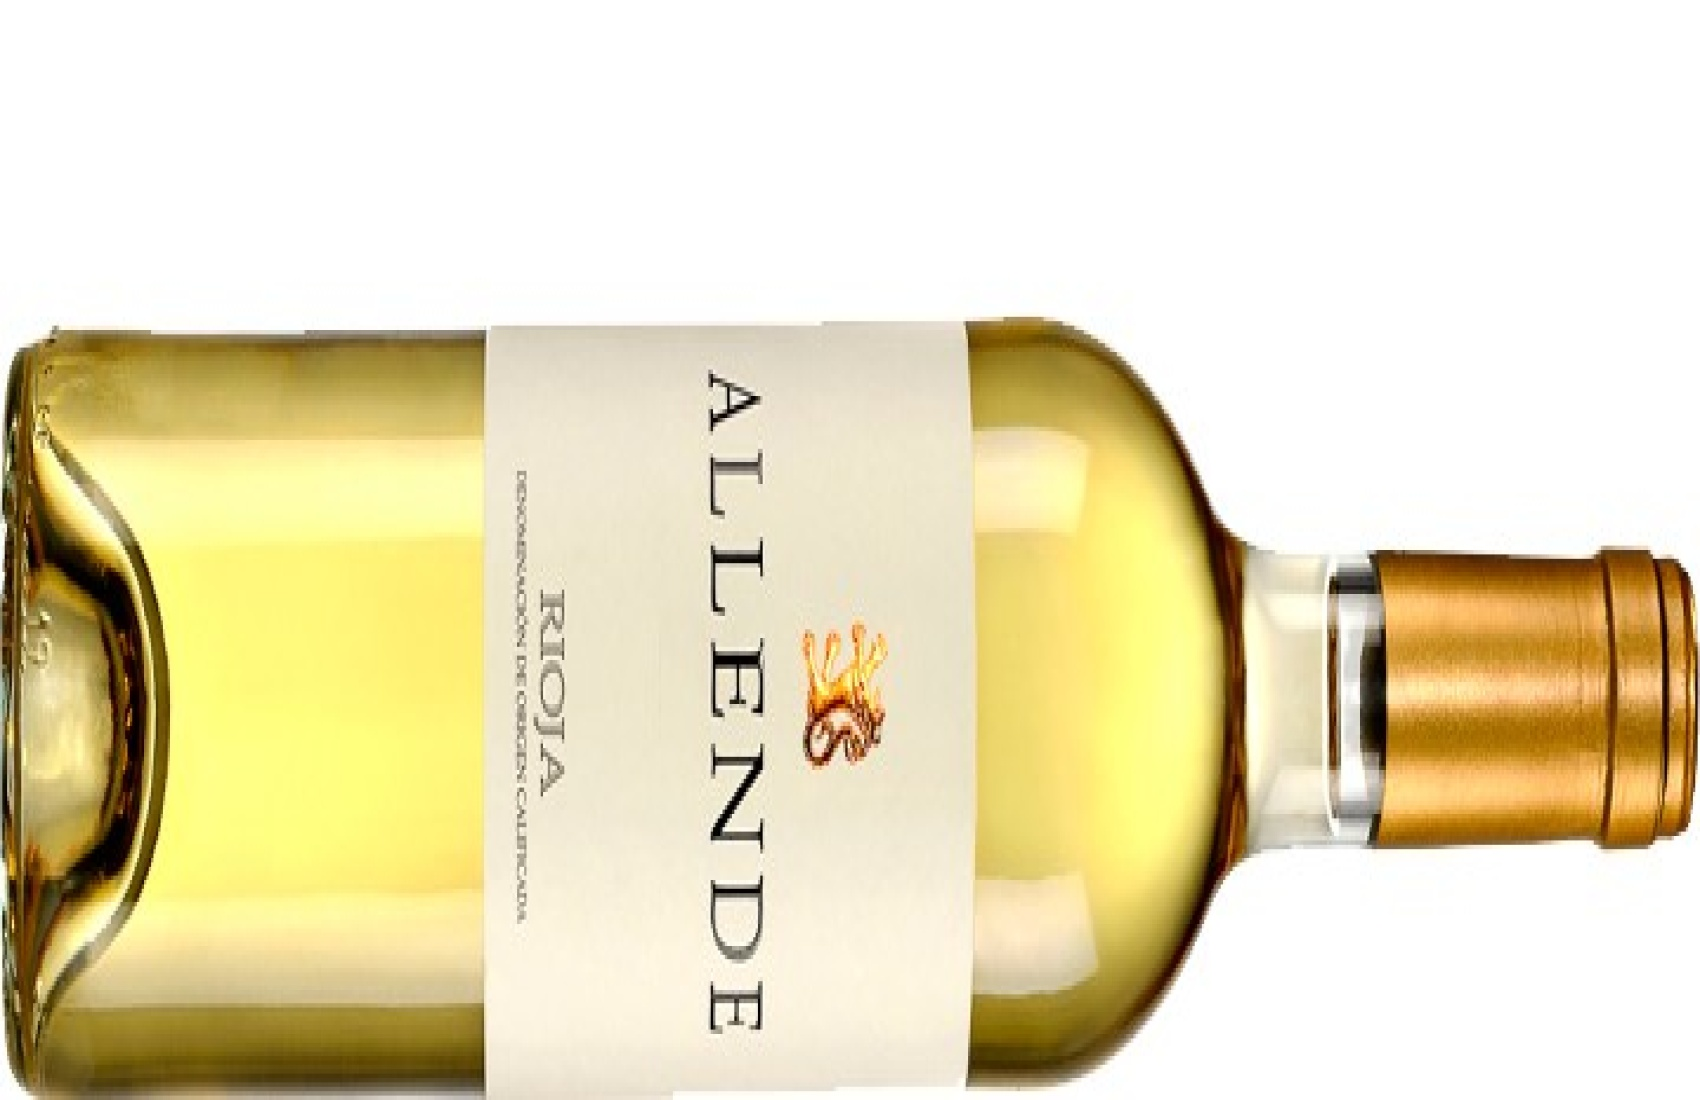wine: (11, 333, 1698, 1084)
